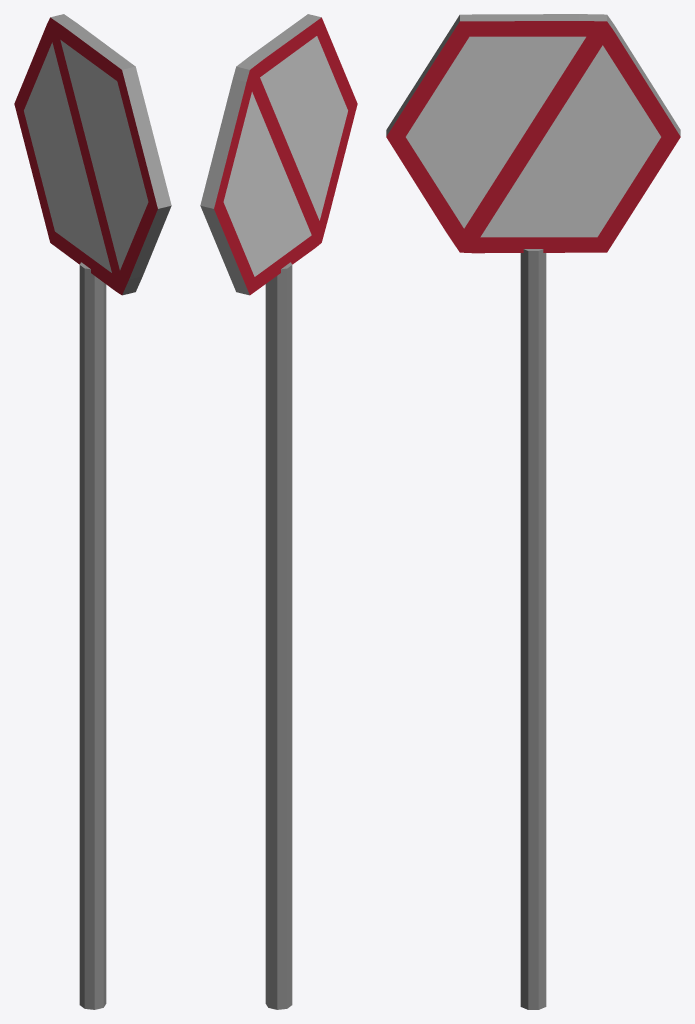
Rendered from Signage 4.fbx.
3 renders of one model, left to right at view 1: azimuth 30°, elevation 25°; view 2: azimuth 150°, elevation 25°; view 3: azimuth 270°, elevation 25°, orthographic. The views are drawn at different scales.
Visible parts, largest first — view 1: Signage 4; view 2: Signage 4; view 3: Signage 4.
Boxes of the visible parts, x1,y1,x2,y2 form: Signage 4: [14, 14, 171, 1009]; Signage 4: [200, 14, 357, 1009]; Signage 4: [386, 14, 680, 1009].
Size of the model in its own units: 0.0622 by 0.7157 by 2.65.
